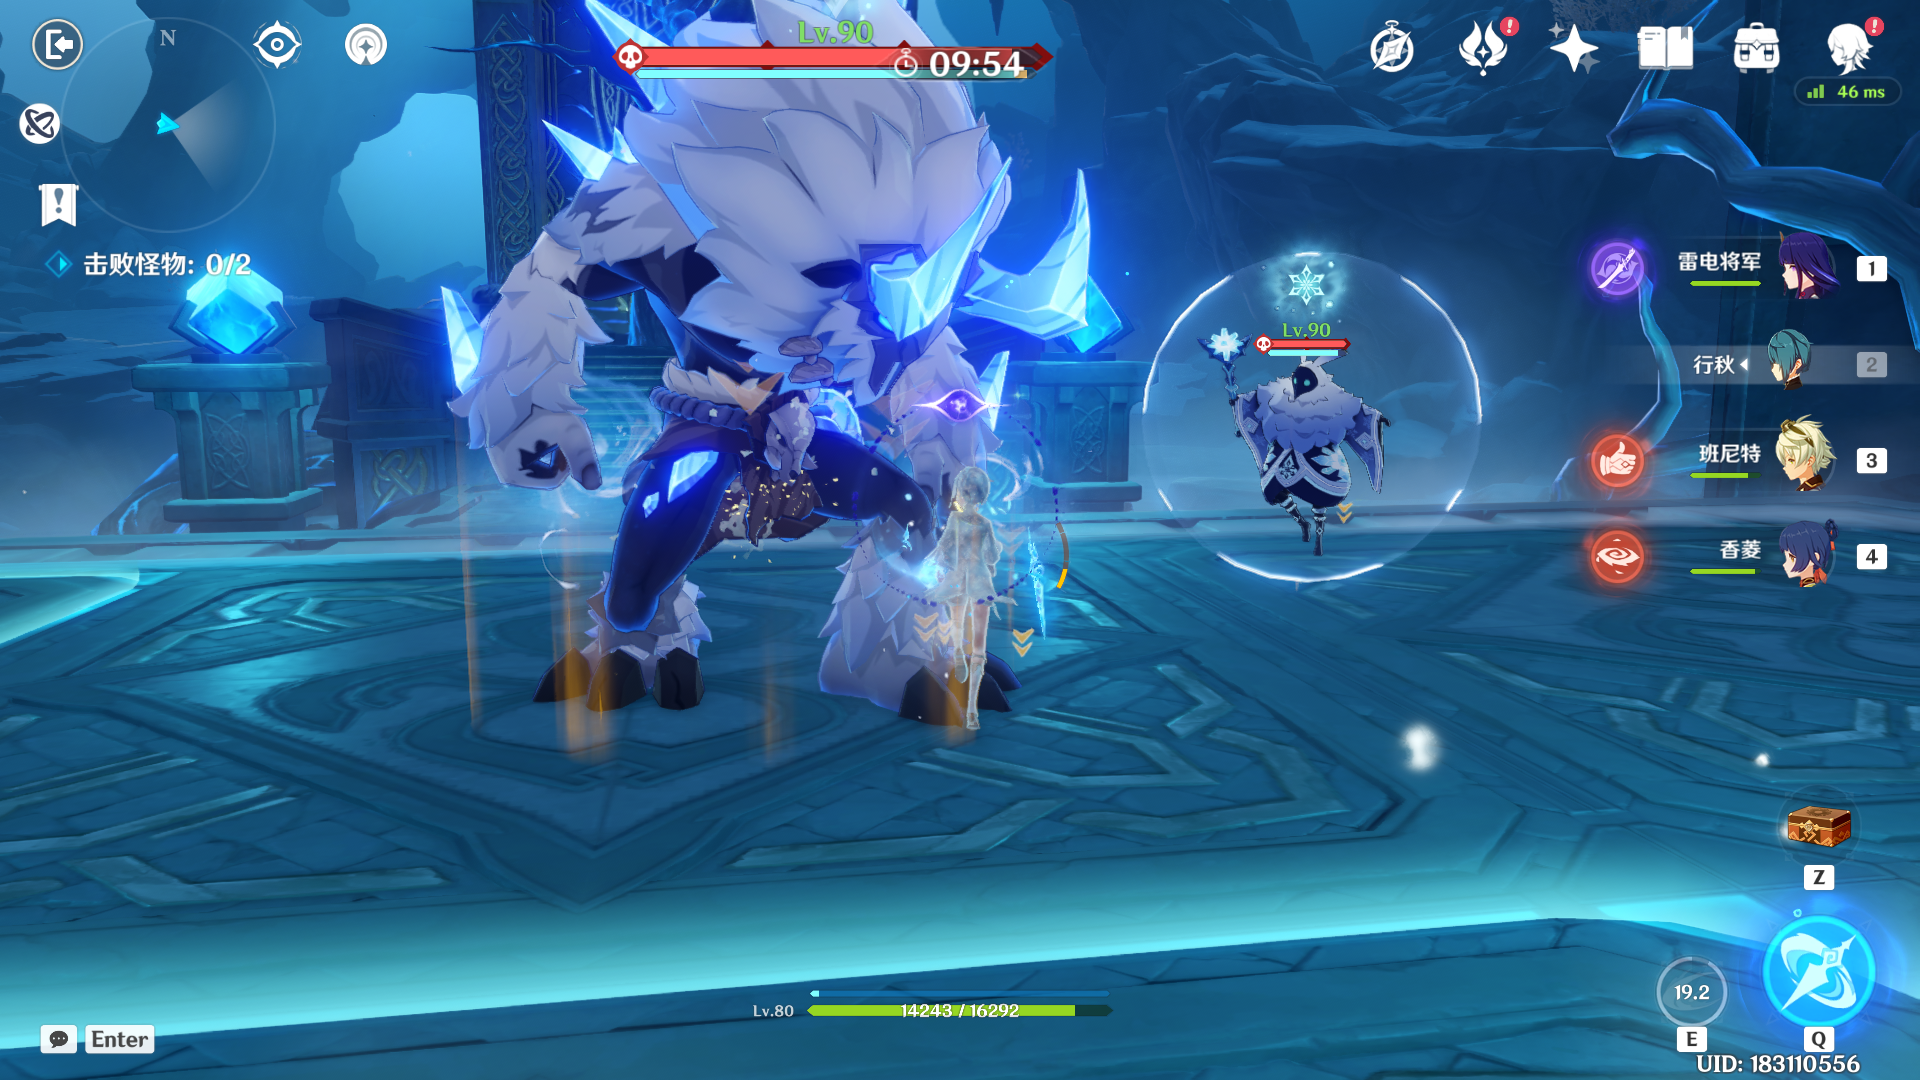bosshili: (419, 1, 1138, 760)
caster: (1185, 295, 1462, 588)
character: (915, 442, 1040, 785)
